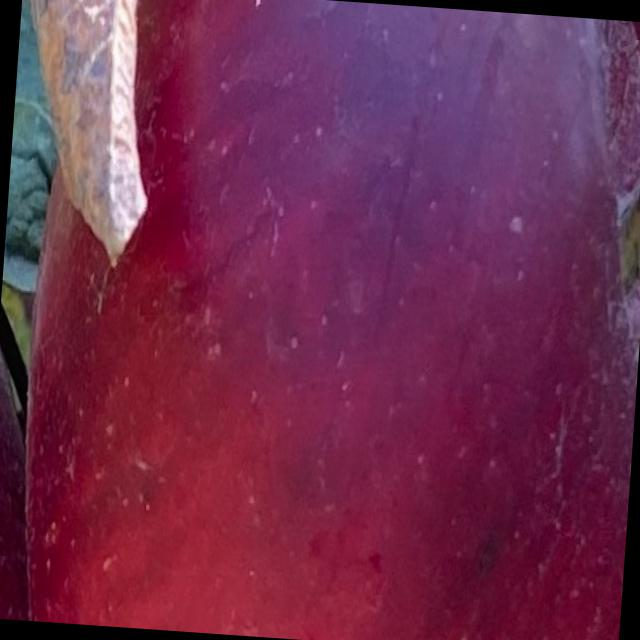Apples: (10, 0, 639, 639), (0, 337, 46, 619)
